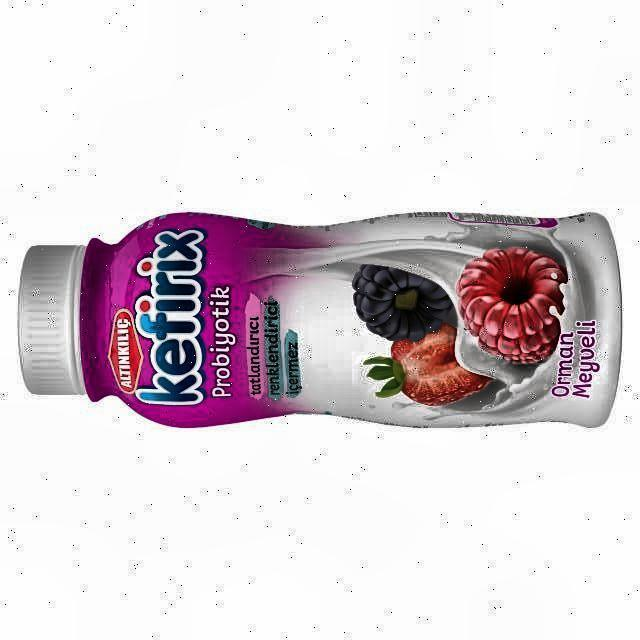plastic: (19, 212, 620, 427)
